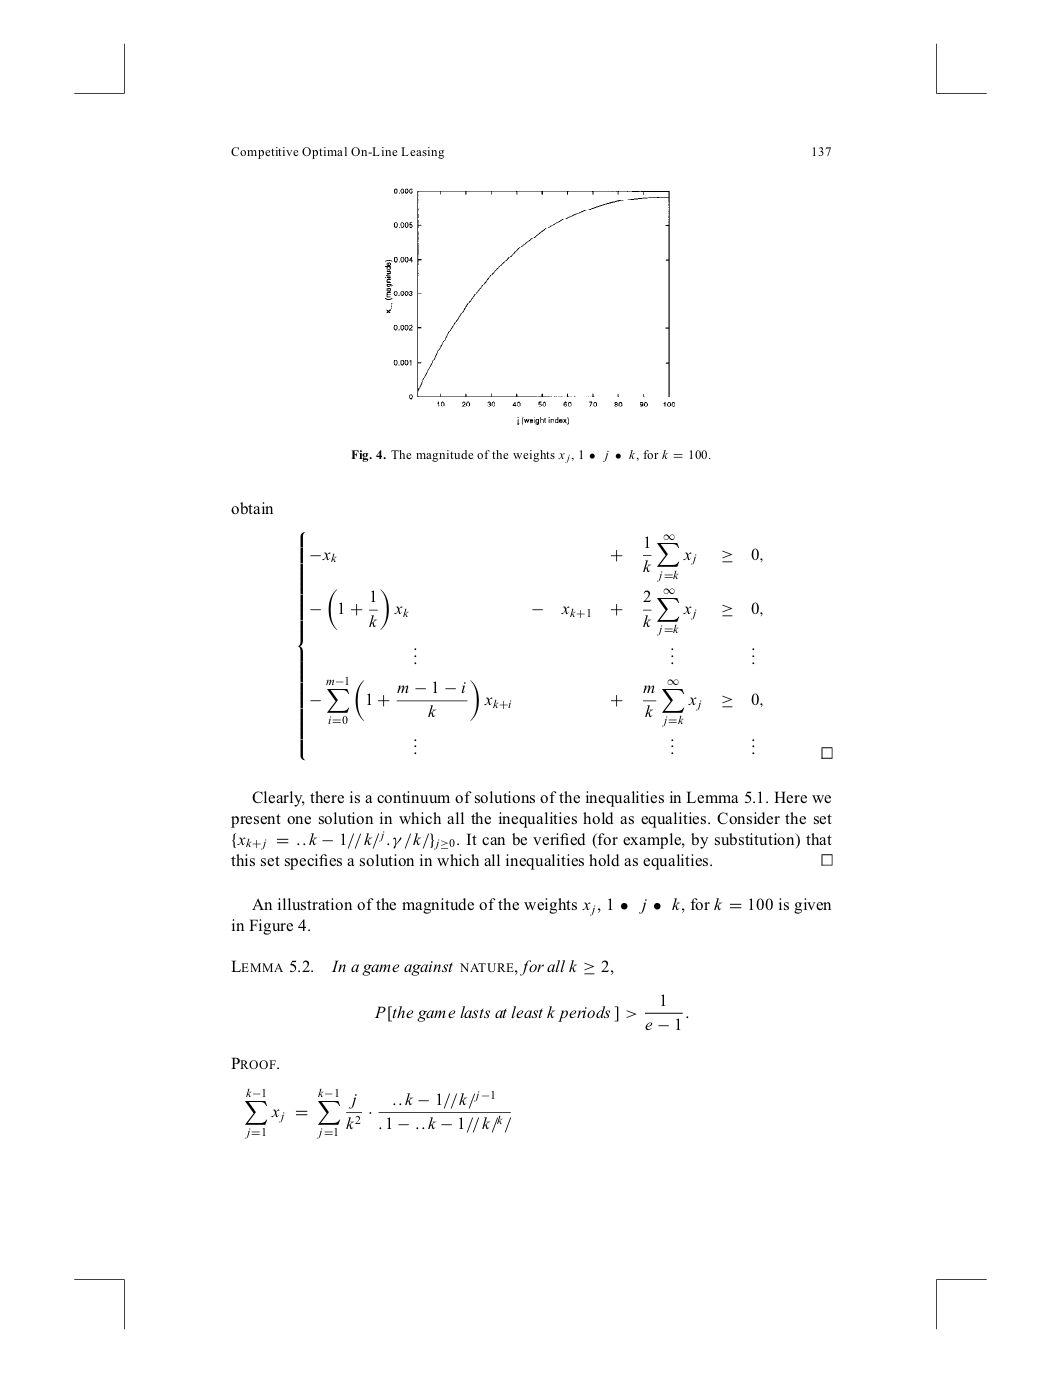figure: (385, 188, 674, 423)
formula: (298, 532, 833, 760), (245, 1087, 510, 1139), (374, 993, 688, 1031)
